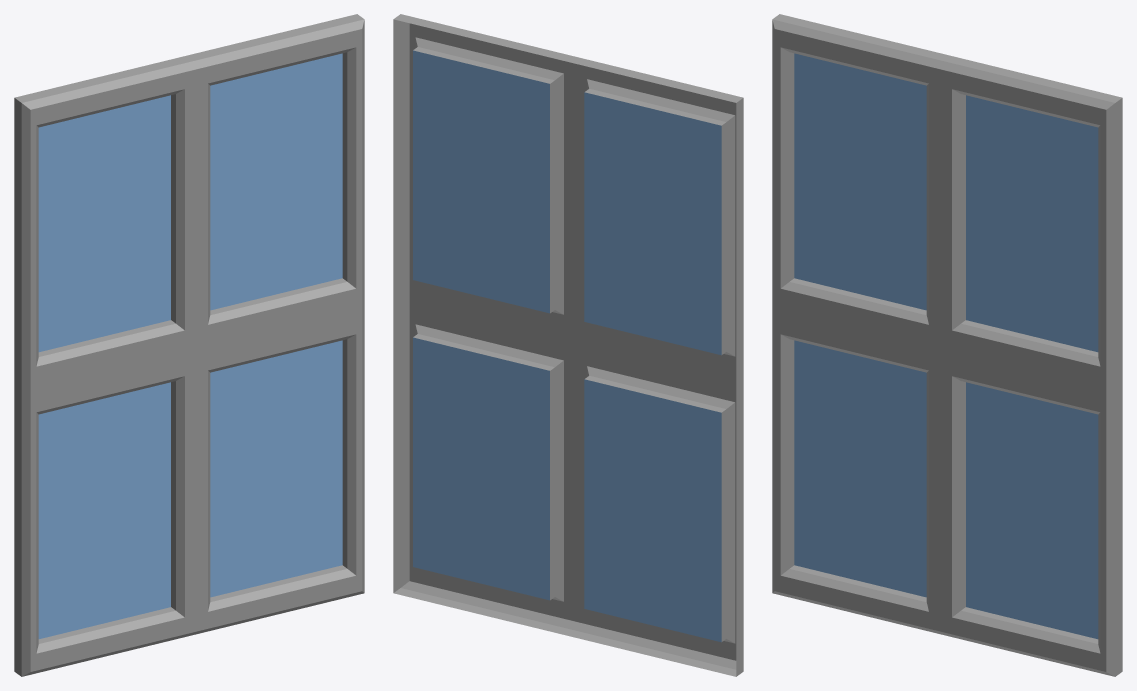
The model's file is Ventana_02.fbx.
3 views of the same model, side by side, from view 1: azimuth 30°, elevation 25°; view 2: azimuth 150°, elevation 25°; view 3: azimuth 330°, elevation 25° (orthographic).
Visible parts, largest first — view 1: polySurface132; view 2: polySurface132; view 3: polySurface132.
Part boxes in pixels (x1,y1,x2,y2): polySurface132: (14, 14, 364, 676); polySurface132: (393, 14, 743, 676); polySurface132: (772, 14, 1122, 676).
Bounding box in the file's own units: 204 × 326 × 10.83.
